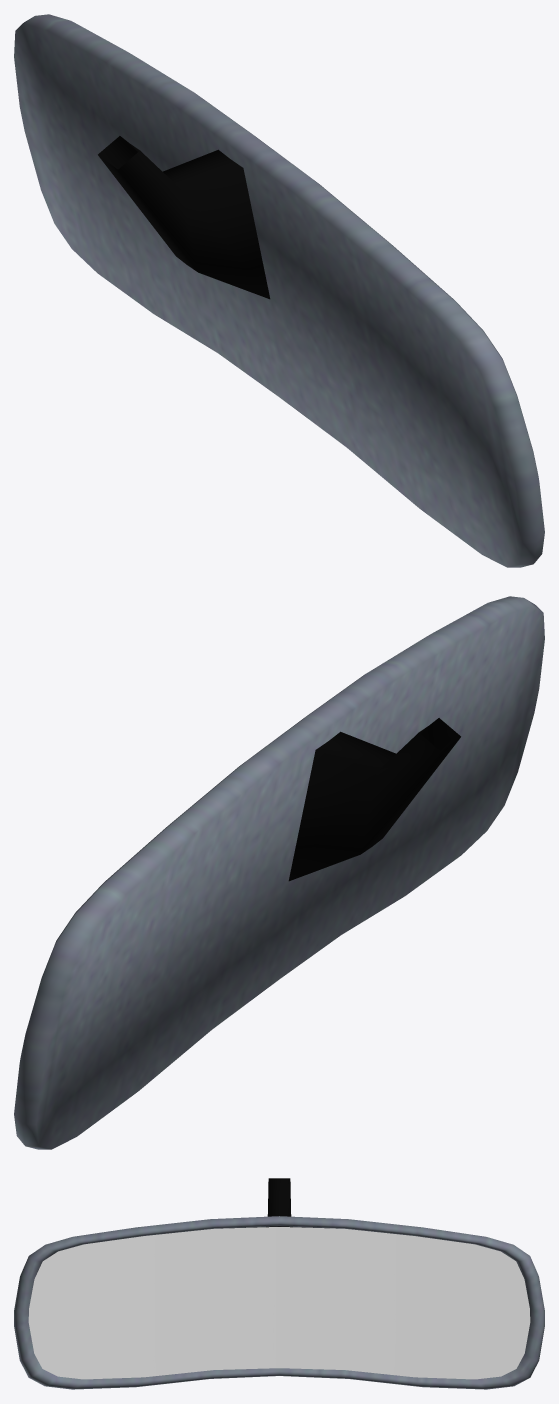
Rendered from retro.fbx.
3 views of the same model, one above another, from view 1: azimuth 30°, elevation 25°; view 2: azimuth 150°, elevation 25°; view 3: azimuth 270°, elevation 25° (orthographic). The views are drawn at different scales.
Visible parts, largest first — view 1: base; view 2: base; view 3: retro, base.
Boxes of the visible parts, x1,y1,x2,y2 form: base: [14, 14, 544, 567]; base: [14, 596, 544, 1149]; retro: [28, 1227, 530, 1379]; base: [14, 1178, 544, 1389].
Bounding box in the file's own units: 4.31 × 17.92 × 6.2.
Materials: 2 (1 with a texture image).
